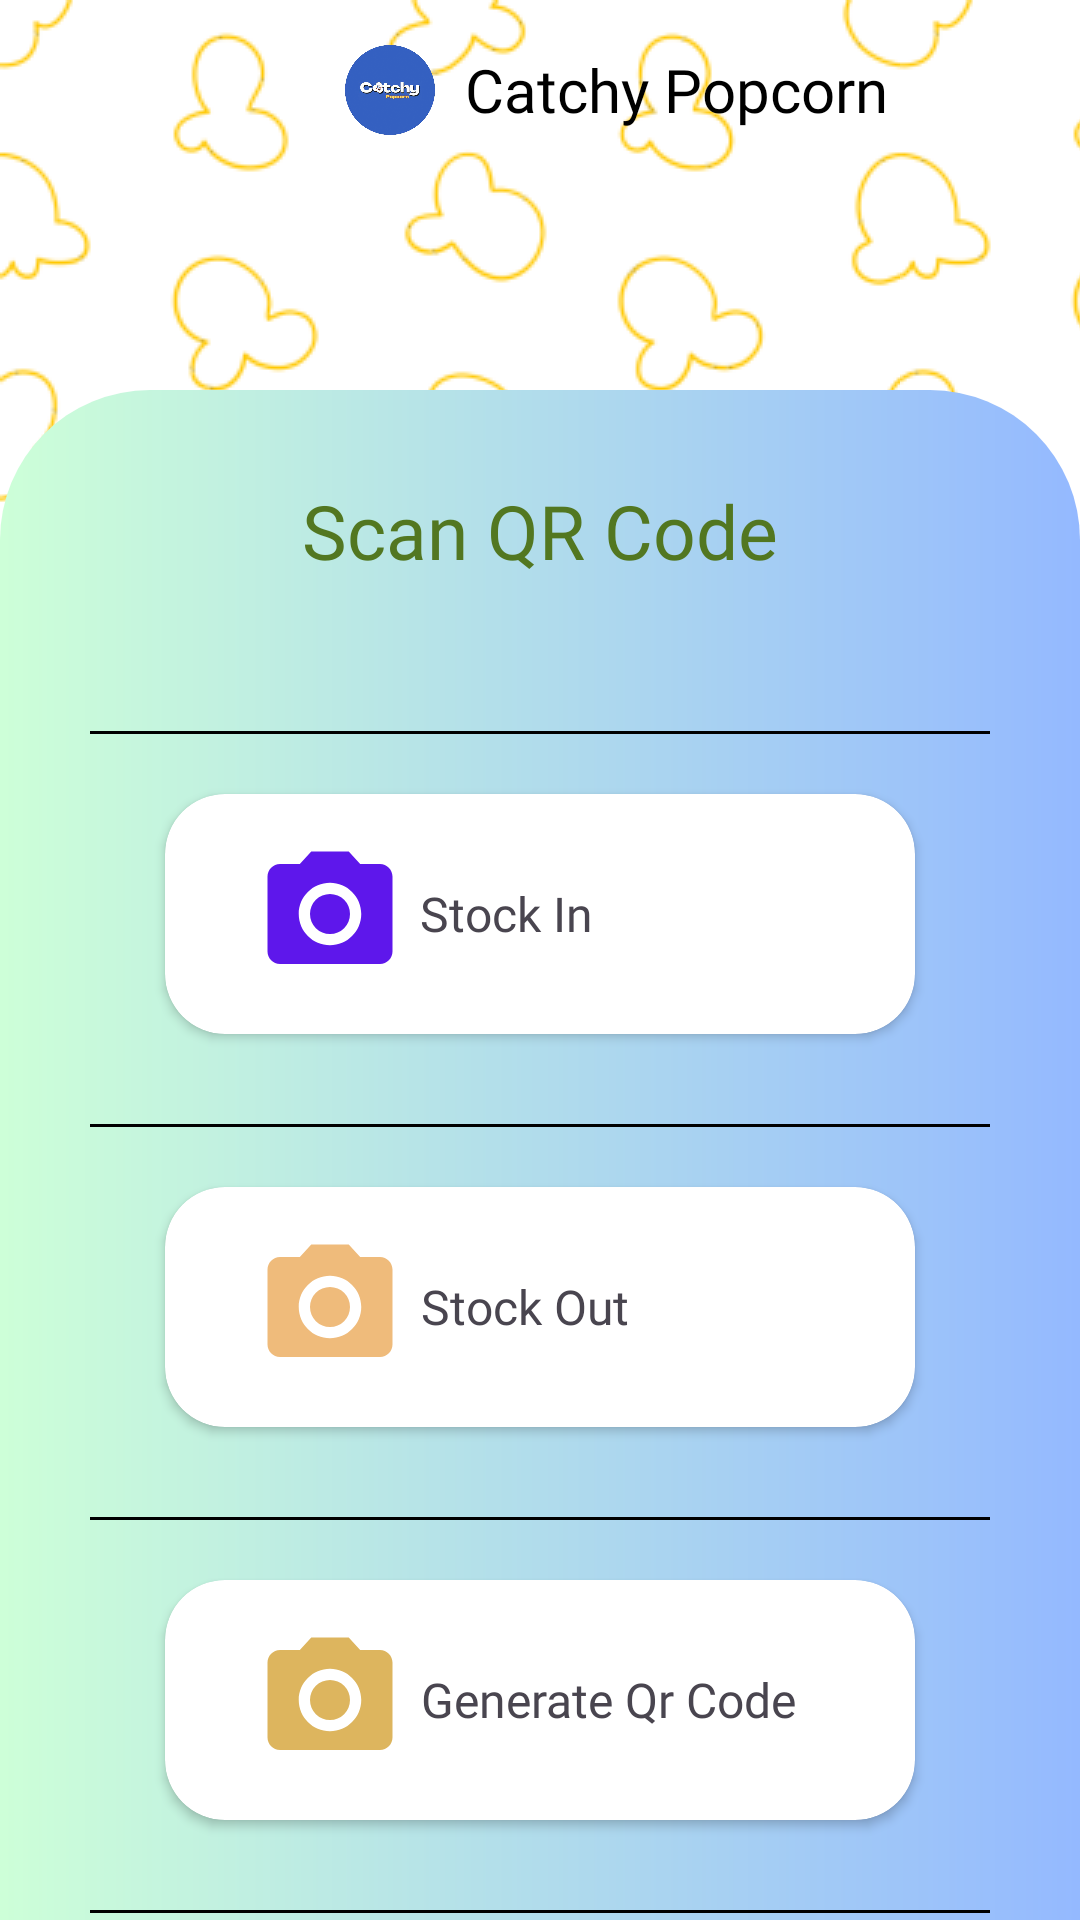

Icon bounding boxes for this 1080×1920 phone screenshot, format (x1, y1, x2, y2):
photo camera: (267, 1637, 393, 1750)
